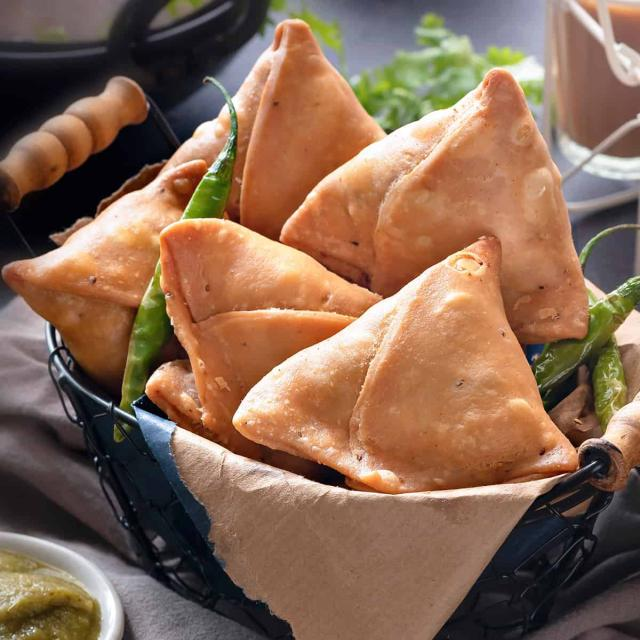SAMOSA: (2, 17, 590, 495)
